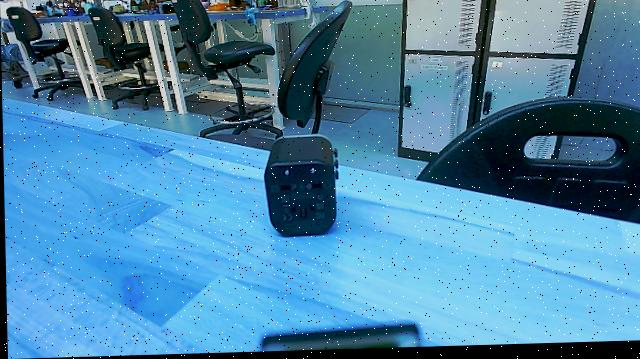adapter: (259, 130, 342, 248)
